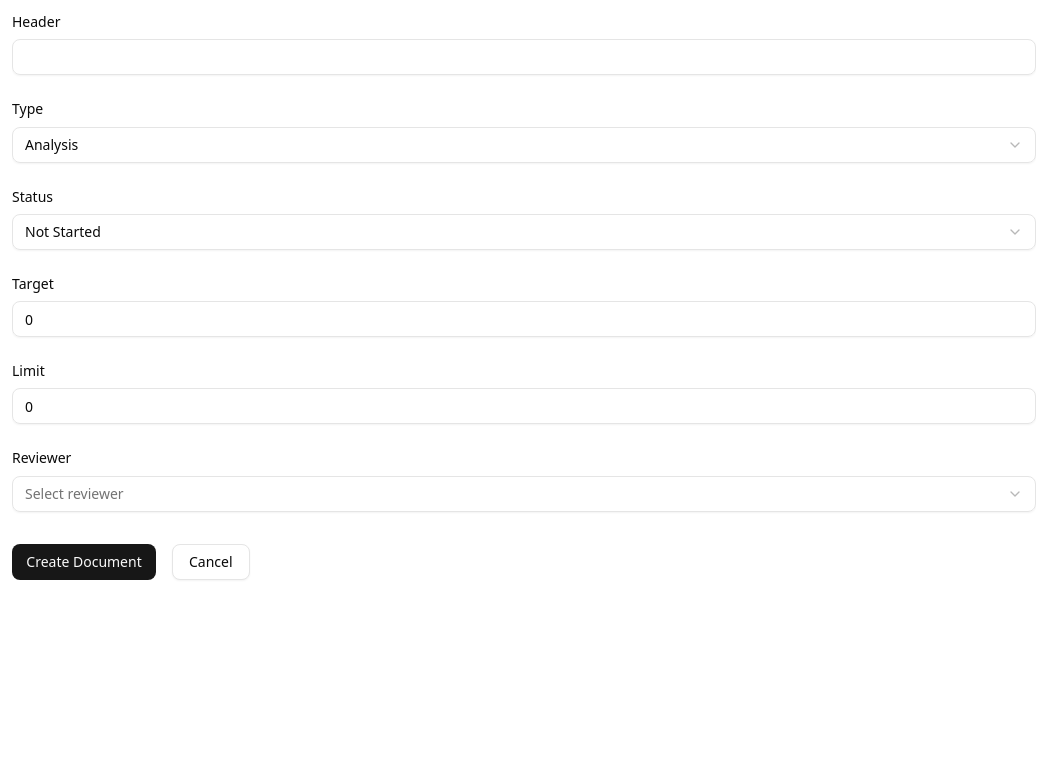
DocumentForm › validates fields and shows errors › header.length >= 3
Type "ab" into the field labelled "Header" at {"x": 524, "y": 57}, box [12, 39, 1036, 75]
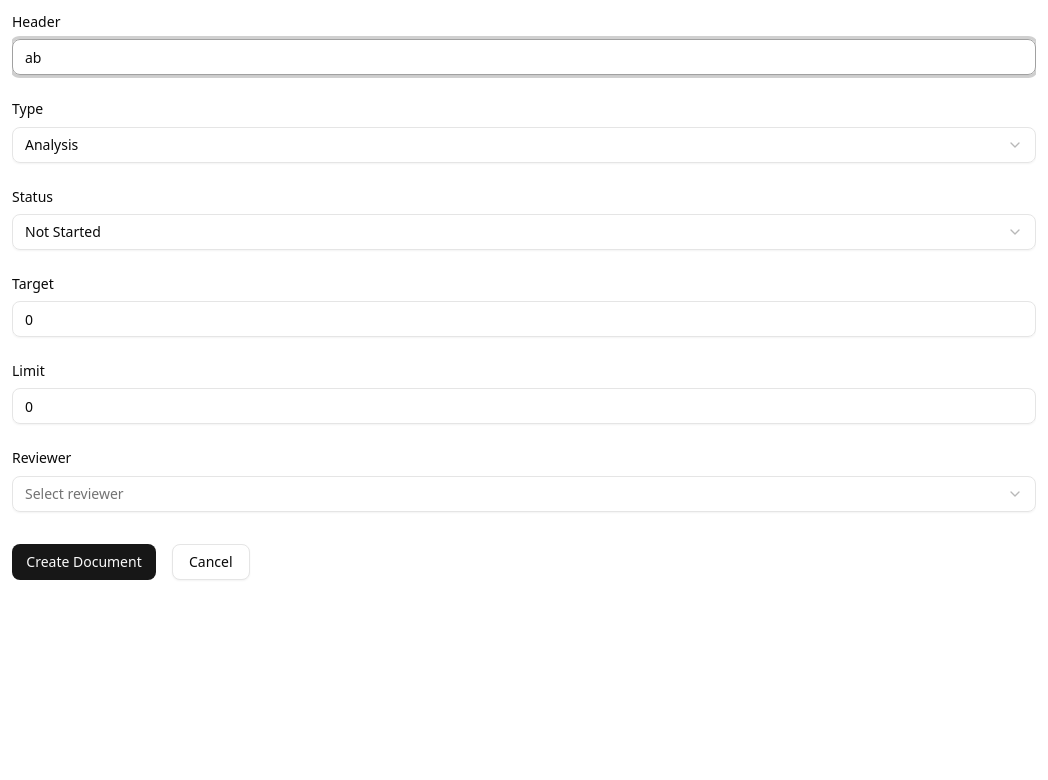
Click the button with aria-label "submit" at {"x": 84, "y": 562}, box [12, 544, 156, 580]
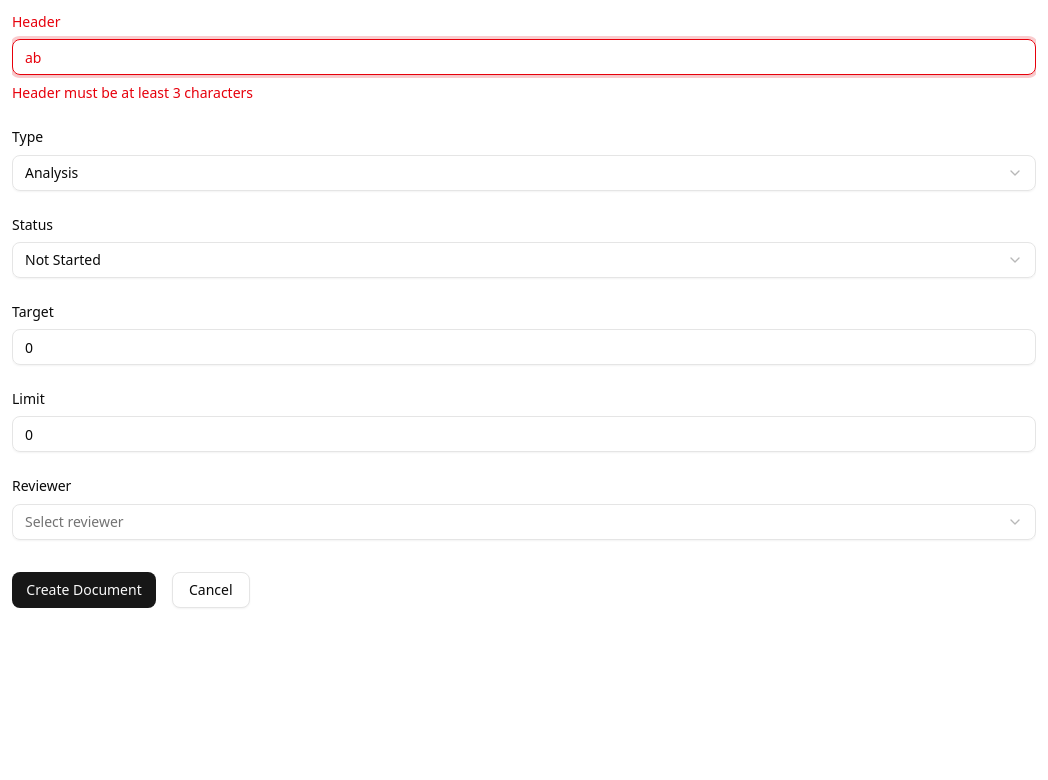
Result: the text "Header must be at least 3 characters" is shown at [12, 83, 253, 102]
